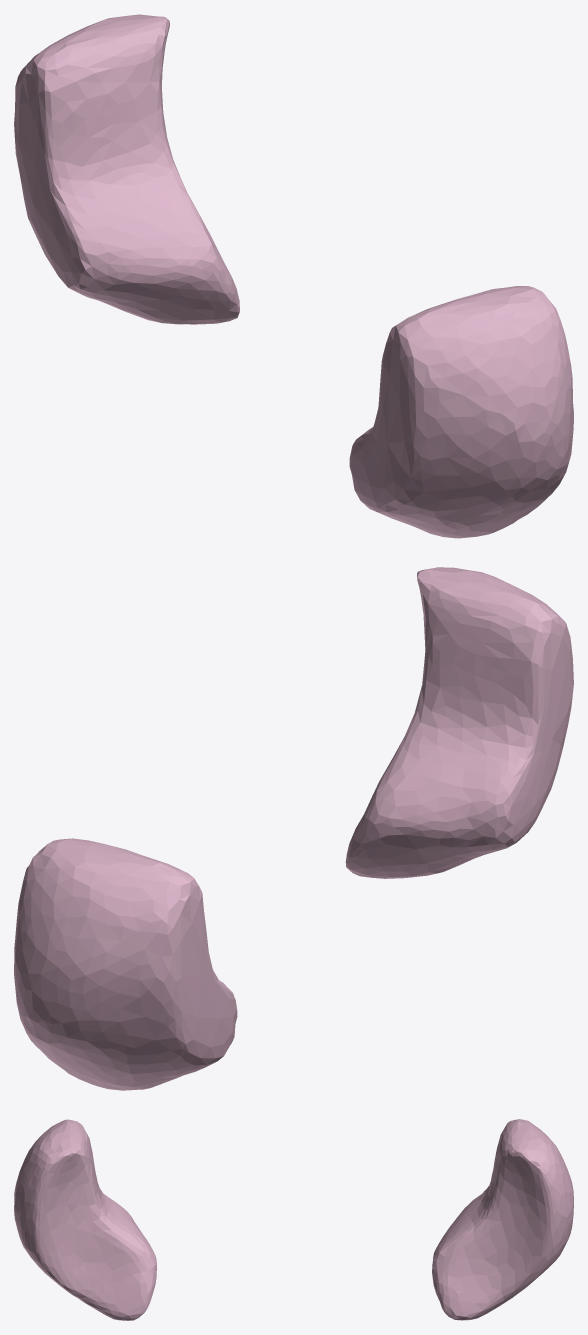
3 views of the same model, one above another, from view 1: azimuth 30°, elevation 25°; view 2: azimuth 150°, elevation 25°; view 3: azimuth 270°, elevation 25° (orthographic). The views are drawn at different scales.
Visible parts, largest first — view 1: 437.obj; view 2: 437.obj; view 3: 437.obj.
Part boxes in pixels (x1=…): 437.obj: x1=14, y1=14, x2=573, y2=538; 437.obj: x1=14, y1=567, x2=573, y2=1090; 437.obj: x1=14, y1=1119, x2=573, y2=1320.
Size of the model in its own units: 995 by 1667 by 5011.
